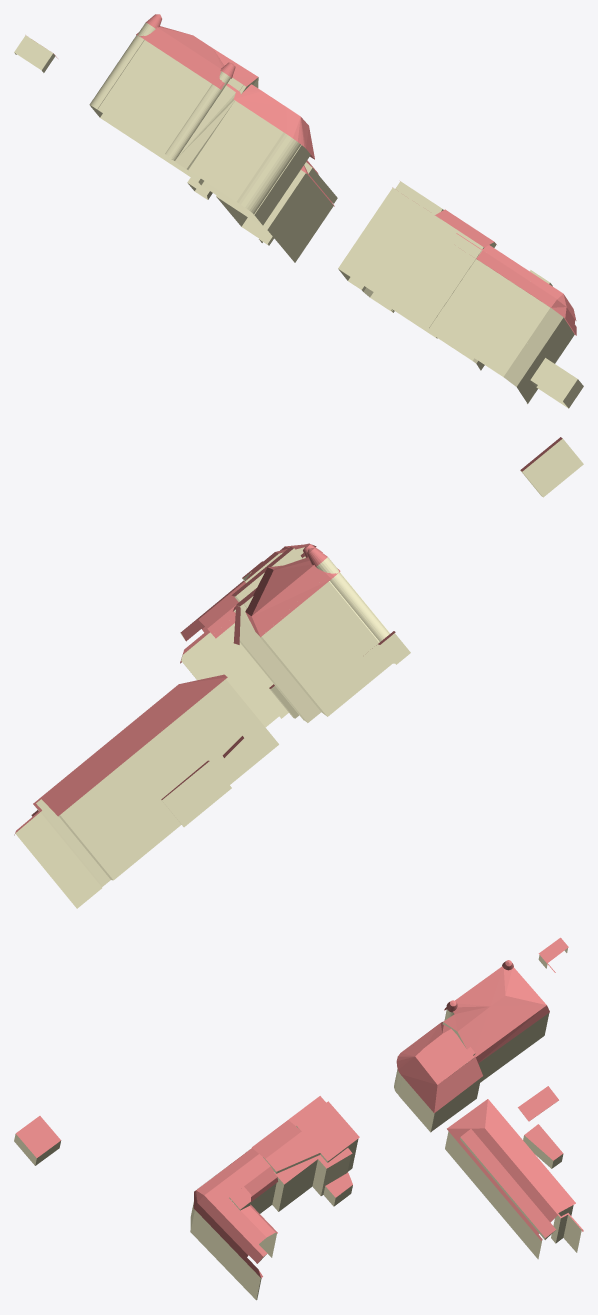
Rendered from tile_102.glb.
The picture shows the model from 3 angles, top to bottom: view 1: azimuth 30°, elevation 25°; view 2: azimuth 150°, elevation 25°; view 3: azimuth 270°, elevation 25°; orthographic projection. The views are drawn at different scales.
Visible parts, largest first — view 1: Batched_Building_ID_846A1627-F0AD-4208-B700-A3D43E057BDB, Batched_Building_ID_F90928F7-8866-4521-8A85-07611B47C0FF; view 2: Batched_Building_ID_846A1627-F0AD-4208-B700-A3D43E057BDB, Batched_Building_ID_F90928F7-8866-4521-8A85-07611B47C0FF; view 3: Batched_Building_ID_F90928F7-8866-4521-8A85-07611B47C0FF, Batched_Building_ID_846A1627-F0AD-4208-B700-A3D43E057BDB.
Boxes of the visible parts, box(x1,y1,x2,y2) form: Batched_Building_ID_846A1627-F0AD-4208-B700-A3D43E057BDB: box(14, 22, 583, 408); Batched_Building_ID_F90928F7-8866-4521-8A85-07611B47C0FF: box(53, 14, 576, 335); Batched_Building_ID_846A1627-F0AD-4208-B700-A3D43E057BDB: box(15, 438, 583, 908); Batched_Building_ID_F90928F7-8866-4521-8A85-07611B47C0FF: box(14, 437, 562, 835); Batched_Building_ID_F90928F7-8866-4521-8A85-07611B47C0FF: box(16, 937, 583, 1278); Batched_Building_ID_846A1627-F0AD-4208-B700-A3D43E057BDB: box(14, 948, 581, 1300).
Size of the model in its own units: 103 by 85.66 by 171.
